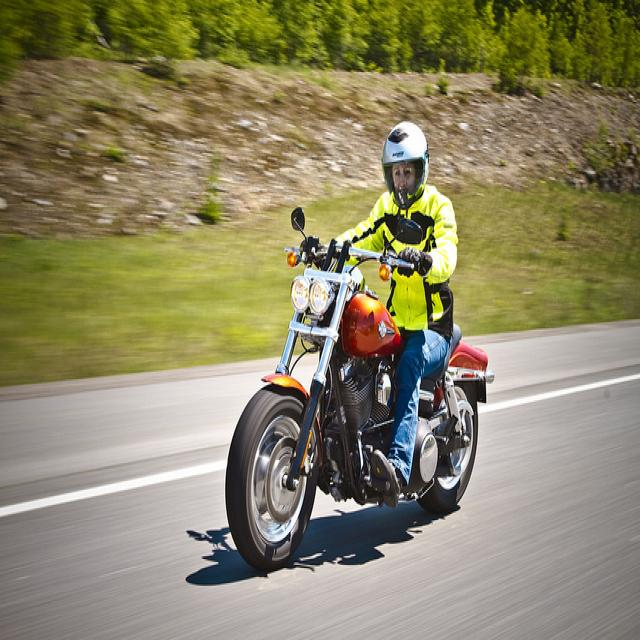motor: (225, 213, 493, 573)
